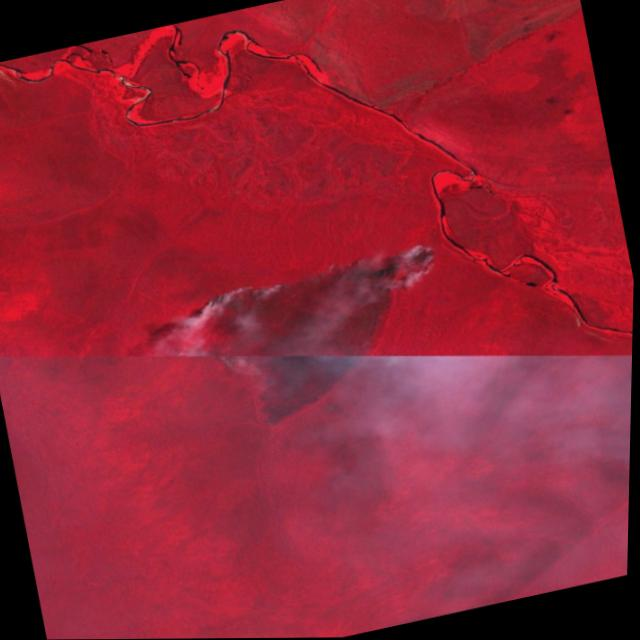fire: (159, 235, 456, 390)
